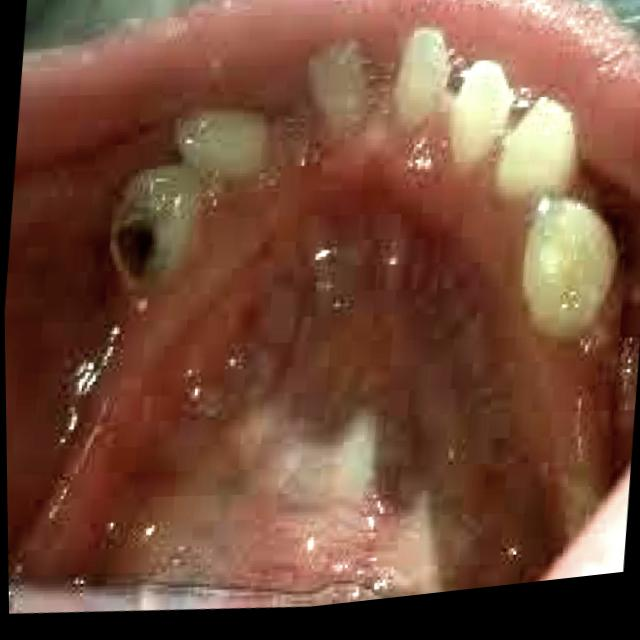hypodontia: (120, 27, 470, 214), (5, 226, 176, 547)
